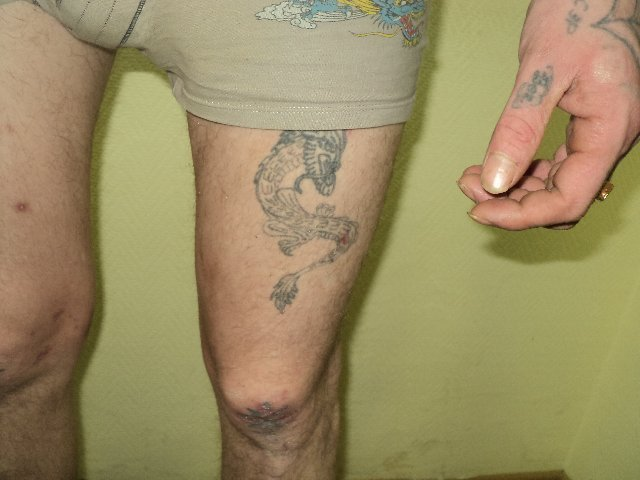tatu3_bukva: (245, 102, 357, 331)
